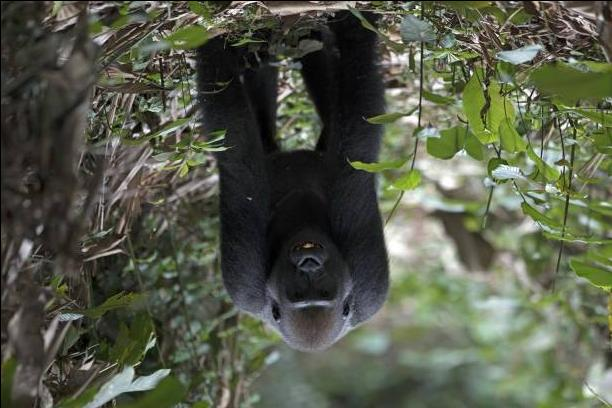gorille_Autres: (141, 23, 432, 378)
